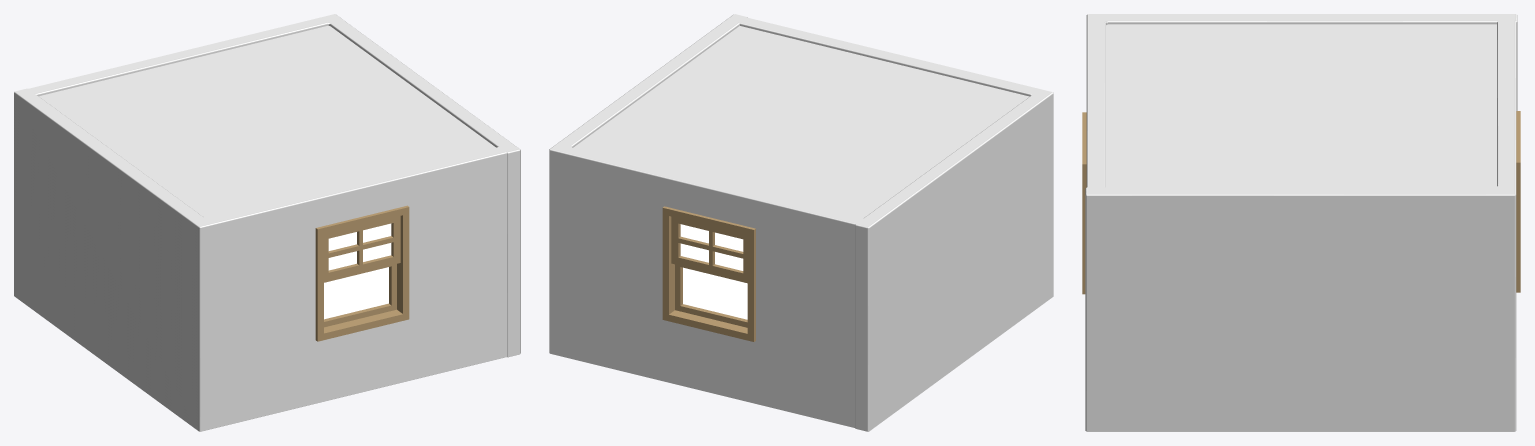
File: Another bedroom.glb
3 views of the same model, side by side, from view 1: azimuth 30°, elevation 25°; view 2: azimuth 150°, elevation 25°; view 3: azimuth 270°, elevation 25° (orthographic). The views are drawn at different scales.
Parts seen in each view (by area): view 1: Wall.002, Floor.001, Window.001, Wall.001; view 2: Wall.001, Floor.001, Wall.002, Window; view 3: Wall.001, Floor.001, Wall.002, Window, Window.001.
Part boxes in pixels (x1,y1,x2,y2): Wall.002: [14, 88, 512, 431]; Floor.001: [39, 26, 495, 217]; Window.001: [315, 205, 409, 341]; Wall.001: [22, 14, 520, 357]; Wall.001: [549, 14, 869, 427]; Floor.001: [573, 26, 1029, 218]; Wall.002: [735, 16, 1053, 431]; Window: [662, 206, 755, 341]; Wall.001: [1085, 17, 1516, 431]; Floor.001: [1106, 24, 1496, 187]; Wall.002: [1086, 14, 1517, 190]; Window: [1516, 111, 1520, 292]; Window.001: [1082, 112, 1086, 294].
Bounding box in the file's own units: 8.8 × 5.37 × 8.98.
